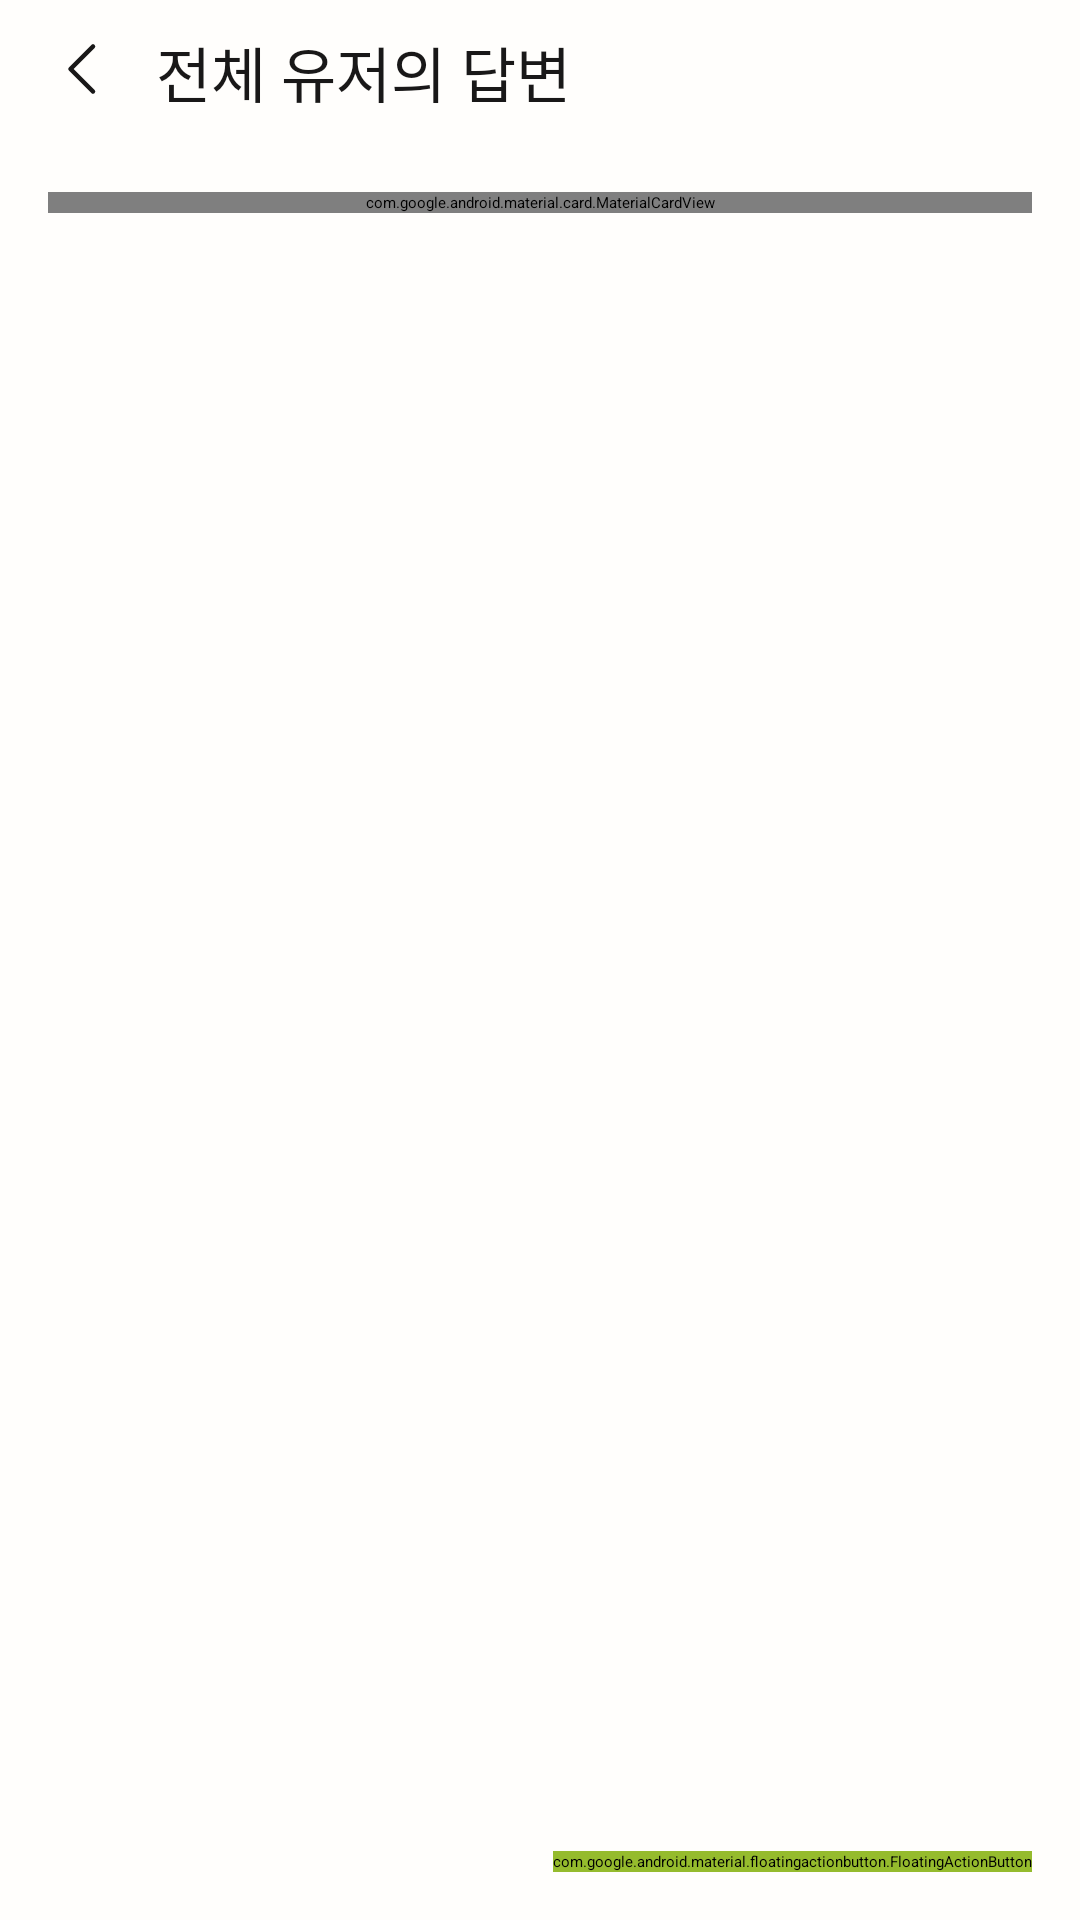

Icon bounding boxes for this 1080 × 1920 phone screenshot, format (x1,y1,x2,y2):
chevron left: (68,44,96,94)
